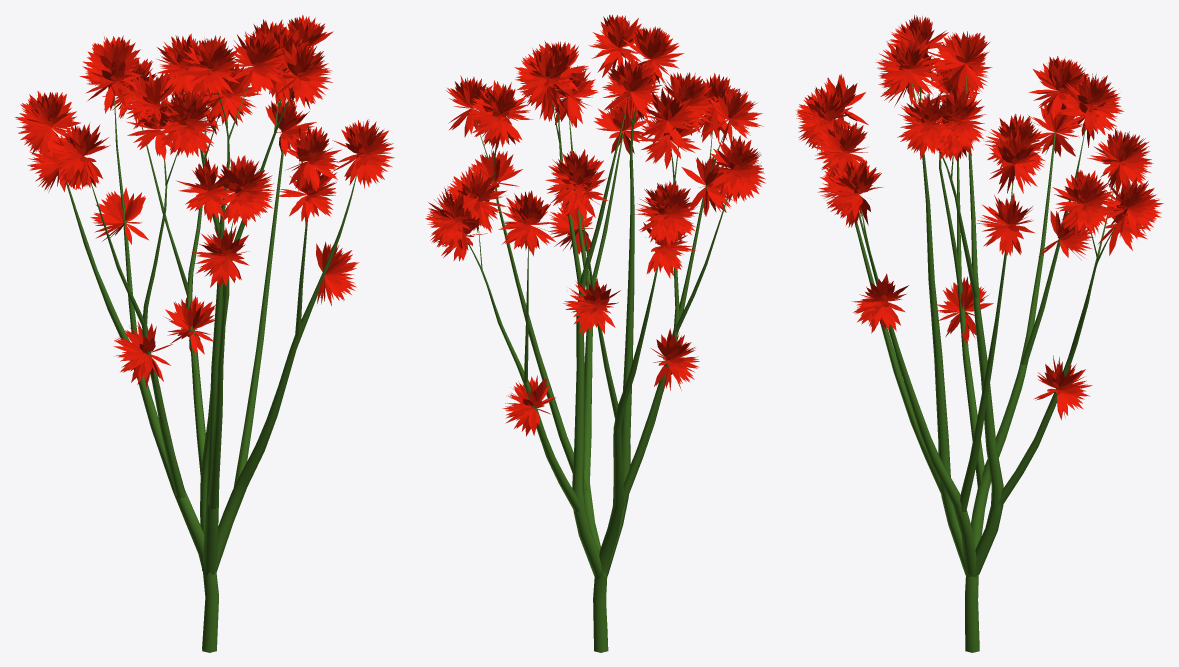
File: Flower_Basic.glb
3 views of the same model, side by side, from view 1: azimuth 30°, elevation 25°; view 2: azimuth 150°, elevation 25°; view 3: azimuth 270°, elevation 25° (orthographic). The views are drawn at different scales.
Parts seen in each view (by area): view 1: leaves, tree; view 2: leaves, tree; view 3: leaves, tree.
Part boxes in pixels (x1,y1,x2,y2): leaves: (15, 14, 394, 387); tree: (66, 87, 356, 652); leaves: (425, 14, 765, 436); tree: (467, 94, 727, 652); leaves: (795, 15, 1163, 420); tree: (842, 76, 1115, 652).
Bounding box in the file's own units: 4.19 × 8.3 × 4.47.
